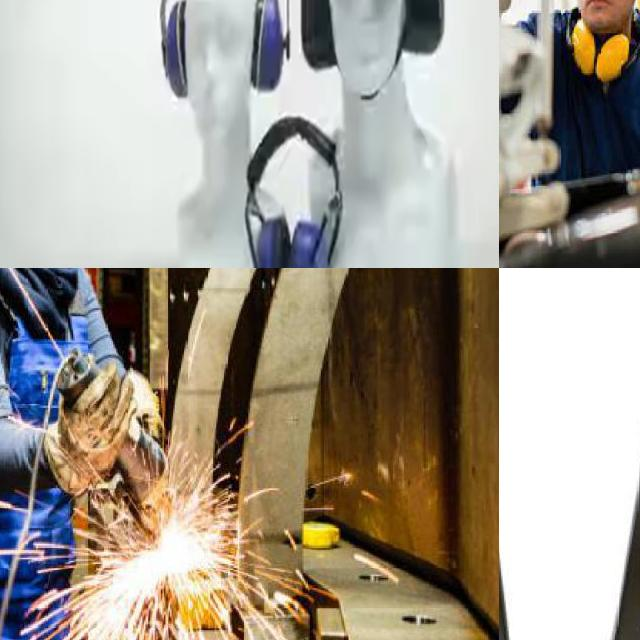Ear-protection: (499, 268, 640, 640), (299, 0, 448, 113), (162, 0, 291, 130), (559, 6, 640, 82)
person: (0, 268, 139, 624), (499, 0, 640, 185)
